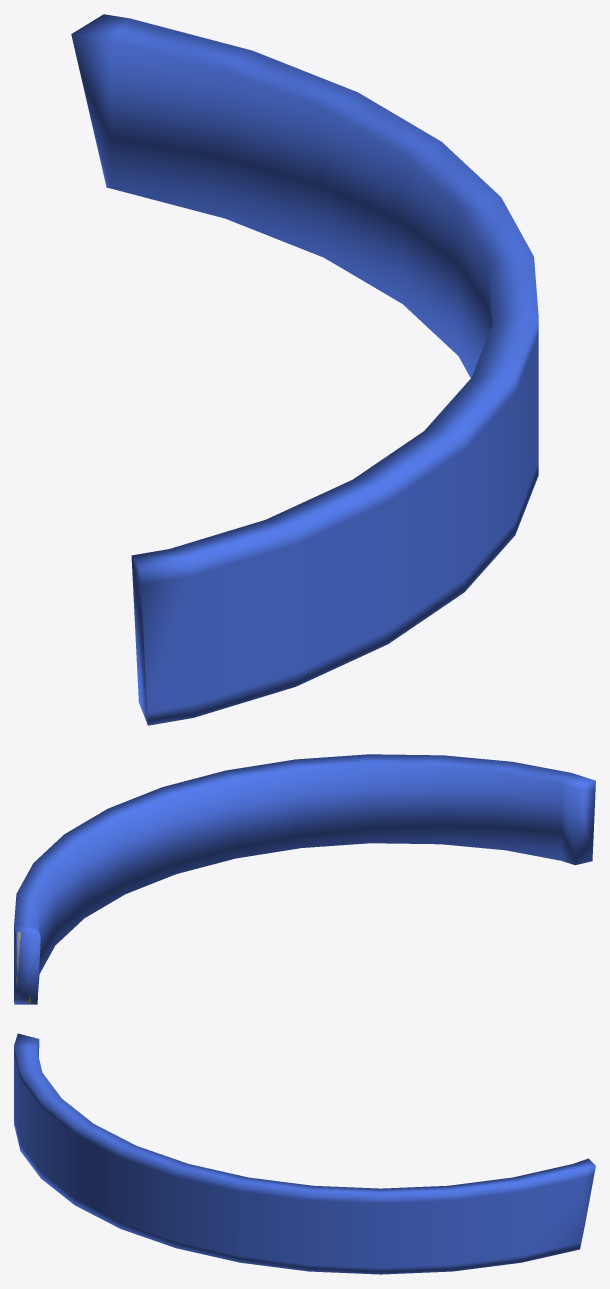
The model's file is catcollar2.fbx.
3 renders of one model, top to bottom at view 1: azimuth 30°, elevation 25°; view 2: azimuth 150°, elevation 25°; view 3: azimuth 270°, elevation 25°, orthographic. The views are drawn at different scales.
Parts seen in each view (by area): view 1: Circle.002; view 2: Circle.002; view 3: Circle.002.
Part boxes in pixels (x1=…): Circle.002: x1=71, y1=14, x2=538, y2=725; Circle.002: x1=14, y1=754, x2=595, y2=1004; Circle.002: x1=14, y1=1033, x2=595, y2=1274.
Bounding box in the file's own units: 104 × 23.69 × 158.
